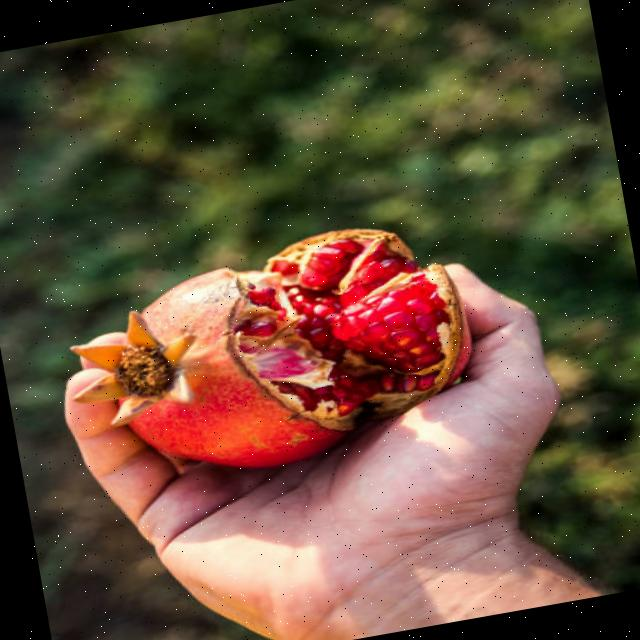overripe: (66, 204, 487, 498)
